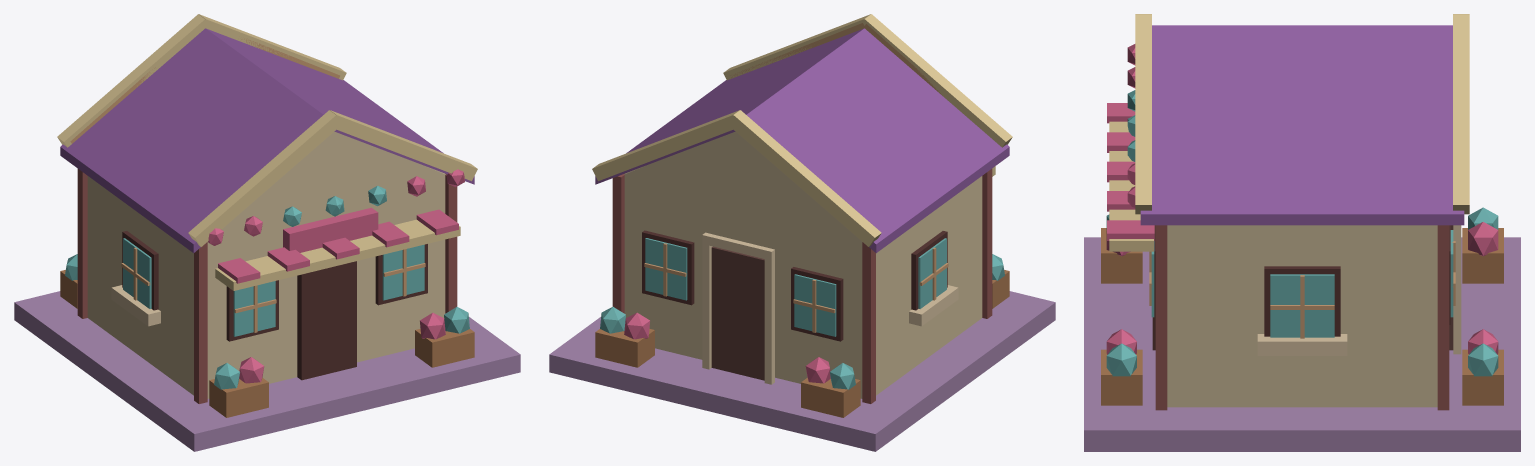
Rendered from Candyland_SweetShop_Standard.glb.
The picture shows the model from 3 angles, left to right: view 1: azimuth 30°, elevation 25°; view 2: azimuth 150°, elevation 25°; view 3: azimuth 270°, elevation 25°; orthographic projection. The views are drawn at different scales.
Parts seen in each view (by area): view 1: Candyland_SweetShop_Standard; view 2: Candyland_SweetShop_Standard; view 3: Candyland_SweetShop_Standard.
Part boxes in pixels (x1,y1,x2,y2): Candyland_SweetShop_Standard: (14, 14, 520, 451); Candyland_SweetShop_Standard: (549, 14, 1055, 451); Candyland_SweetShop_Standard: (1084, 14, 1520, 451).
Bounding box in the file's own units: 4.6 × 3.79 × 4.4.
